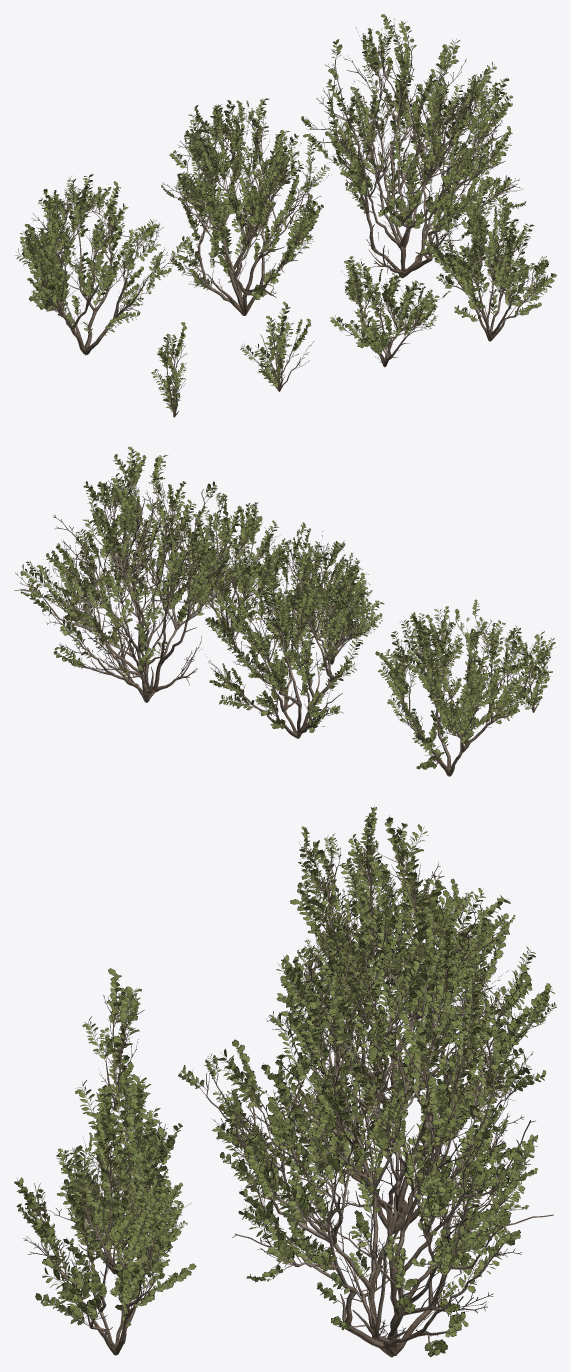
Rendered from searsia_lucida.glb.
3 views of the same model, one above another, from view 1: azimuth 30°, elevation 25°; view 2: azimuth 150°, elevation 25°; view 3: azimuth 270°, elevation 25° (orthographic). The views are drawn at different scales.
Parts seen in each view (by area): view 1: searsia_lucida_a_LOD0, searsia_lucida_b_LOD0, searsia_lucida_c_LOD0, searsia_lucida_d_LOD0, searsia_lucida_e_LOD0, searsia_lucida_f_LOD0, searsia_lucida_g_LOD0; view 2: searsia_lucida_a_LOD0, searsia_lucida_b_LOD0, searsia_lucida_c_LOD0, searsia_lucida_d_LOD0, searsia_lucida_e_LOD0, searsia_lucida_g_LOD0, searsia_lucida_f_LOD0; view 3: searsia_lucida_a_LOD0, searsia_lucida_b_LOD0, searsia_lucida_d_LOD0, searsia_lucida_c_LOD0, searsia_lucida_e_LOD0, searsia_lucida_g_LOD0, searsia_lucida_f_LOD0.
Part boxes in pixels (left/top/right/bottom): searsia_lucida_a_LOD0: left=301, top=14, right=526, bottom=278; searsia_lucida_b_LOD0: left=161, top=98, right=329, bottom=315; searsia_lucida_c_LOD0: left=15, top=174, right=196, bottom=355; searsia_lucida_d_LOD0: left=422, top=179, right=556, bottom=341; searsia_lucida_e_LOD0: left=330, top=256, right=450, bottom=367; searsia_lucida_f_LOD0: left=240, top=301, right=313, bottom=391; searsia_lucida_g_LOD0: left=151, top=322, right=187, bottom=417; searsia_lucida_a_LOD0: left=14, top=446, right=268, bottom=702; searsia_lucida_b_LOD0: left=205, top=522, right=372, bottom=738; searsia_lucida_c_LOD0: left=375, top=599, right=555, bottom=776; searsia_lucida_d_LOD0: left=176, top=494, right=294, bottom=636; searsia_lucida_e_LOD0: left=283, top=566, right=384, bottom=664; searsia_lucida_g_LOD0: left=509, top=630, right=552, bottom=712; searsia_lucida_f_LOD0: left=400, top=612, right=463, bottom=682; searsia_lucida_a_LOD0: left=178, top=951, right=553, bottom=1357; searsia_lucida_b_LOD0: left=266, top=877, right=556, bottom=1234; searsia_lucida_d_LOD0: left=14, top=1107, right=196, bottom=1355; searsia_lucida_c_LOD0: left=276, top=806, right=515, bottom=1111; searsia_lucida_e_LOD0: left=48, top=1071, right=182, bottom=1274; searsia_lucida_g_LOD0: left=82, top=968, right=144, bottom=1109; searsia_lucida_f_LOD0: left=75, top=1076, right=164, bottom=1191.
Size of the model in its own units: 4.78 by 2.34 by 2.84.
Materials: 3 (3 with a texture image).
